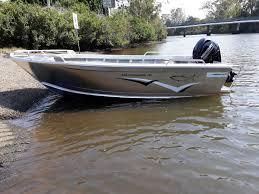fishing boat: (7, 31, 239, 100)
